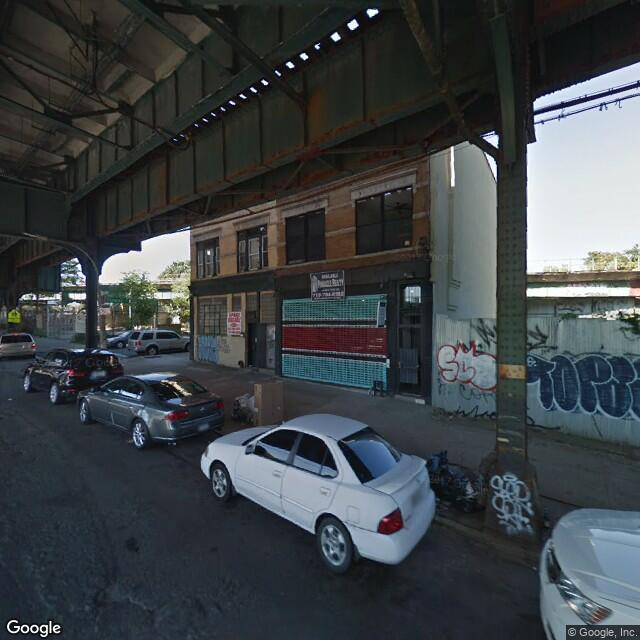litter: (417, 450, 483, 517), (225, 387, 260, 423)
